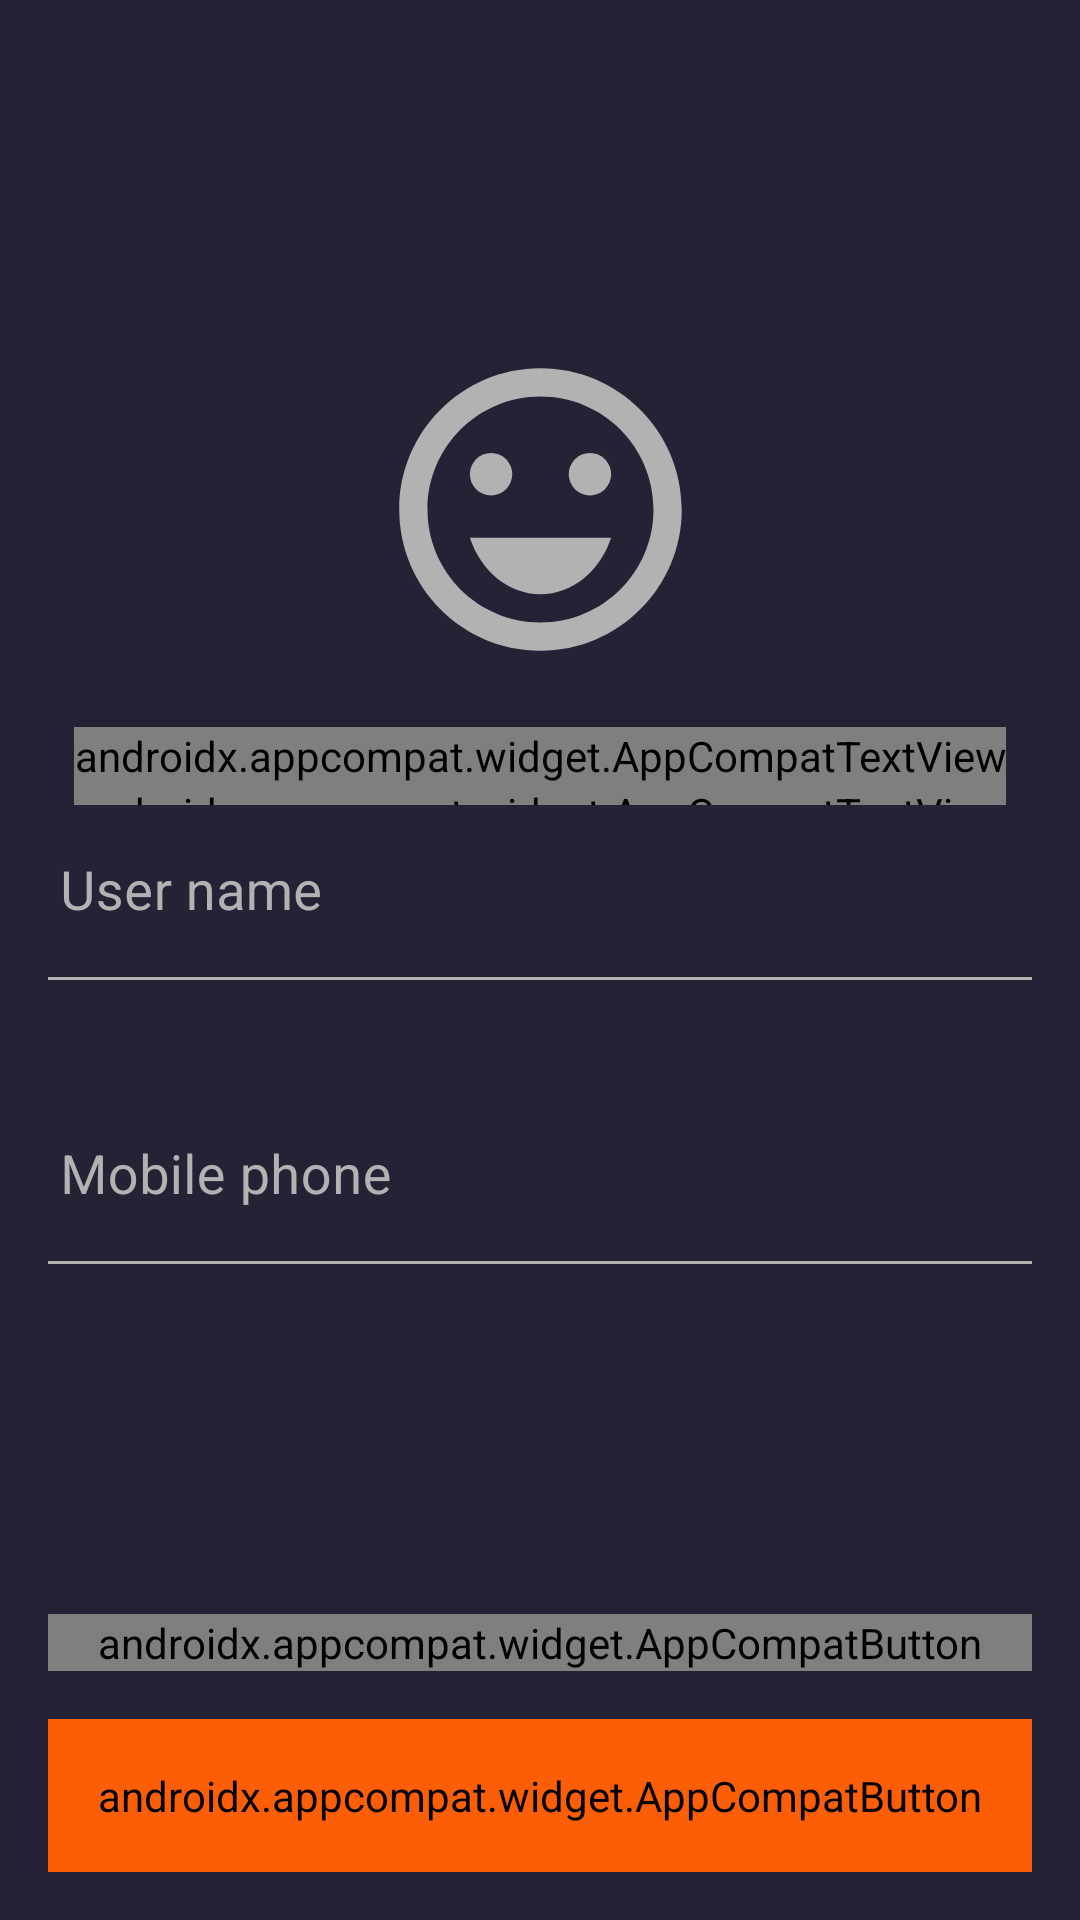

Where to tap for icons on this 1080x1920 app screen, as point (x, y):
sentiment very satisfied: point (540, 509)
